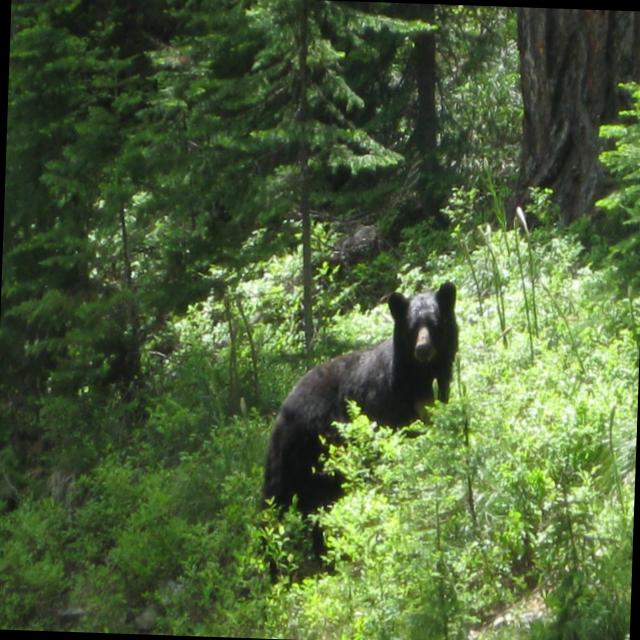bear: (231, 268, 537, 558)
